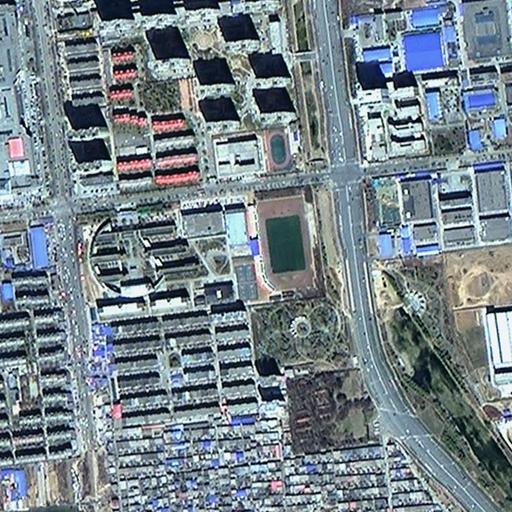school: (72, 187, 317, 310), (206, 124, 289, 180)
